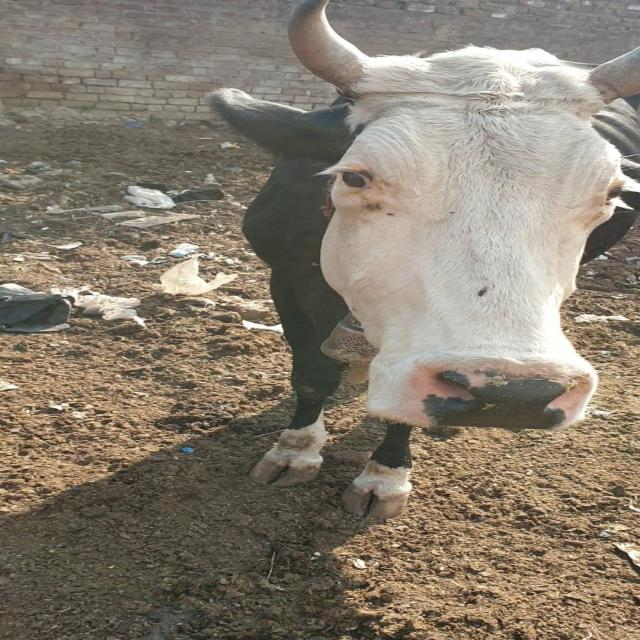cowFace: (292, 63, 640, 426)
